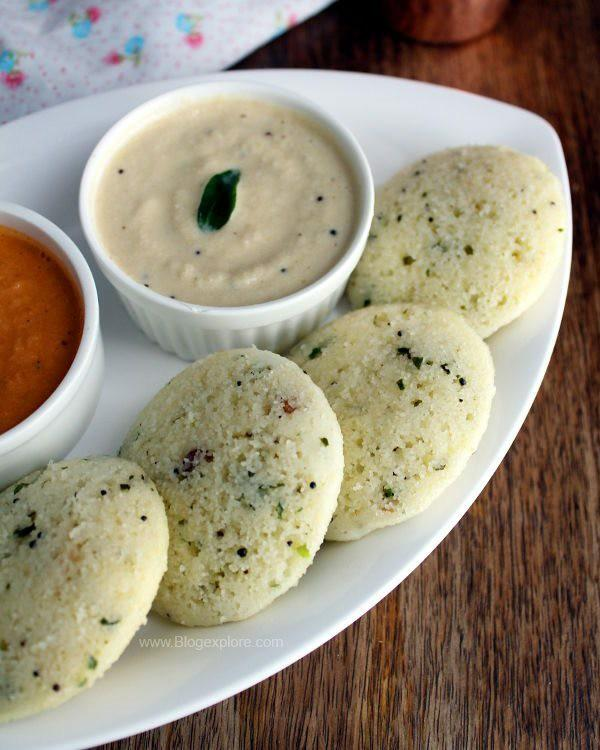CoconutChutney: (97, 92, 359, 310)
Idli: (116, 349, 345, 629), (283, 305, 497, 540), (341, 140, 565, 339), (6, 452, 167, 718)
